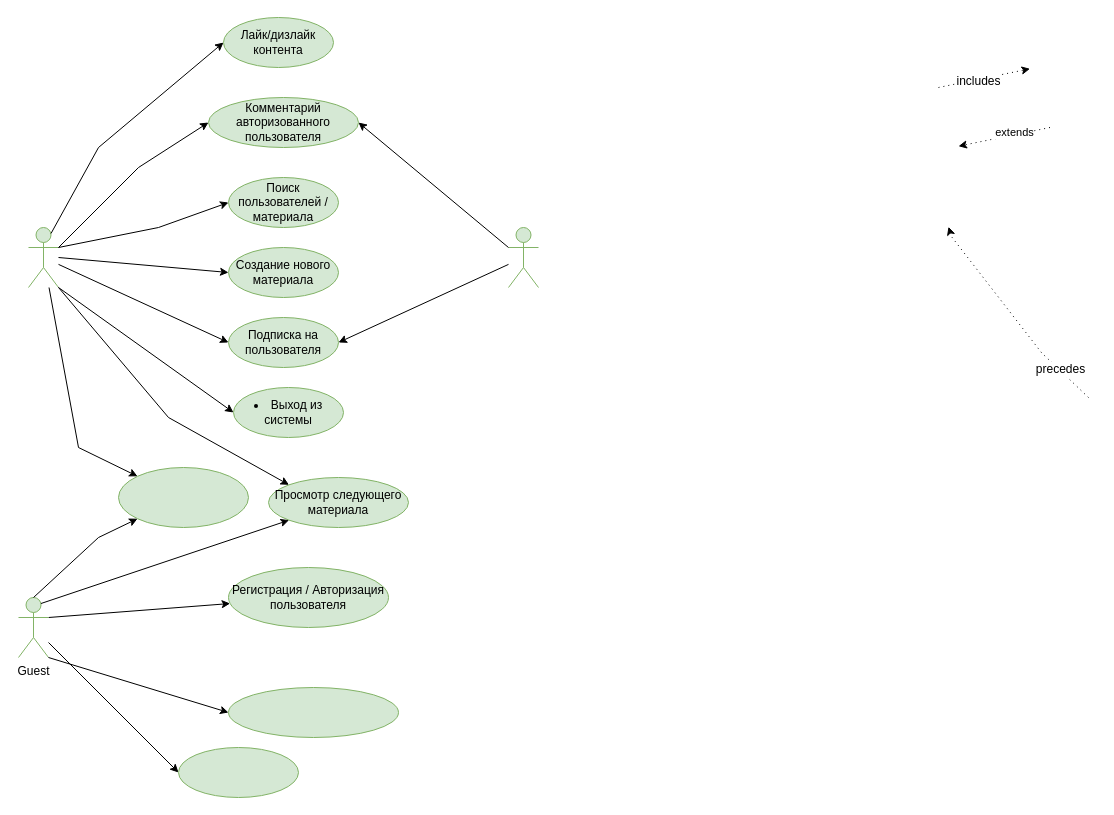
This 1114x815 diagram has some shape labels left out. Here are the shapes that lost their labels. From the top down, the box of each, then its label:
(28, 226, 58, 288): User
(508, 226, 538, 288): Another User
(118, 466, 248, 528): Просмотр связанных тегов
(228, 686, 398, 738): Попытка оставить комментарий гостем
(178, 746, 298, 798): Просмотр без авторизации
